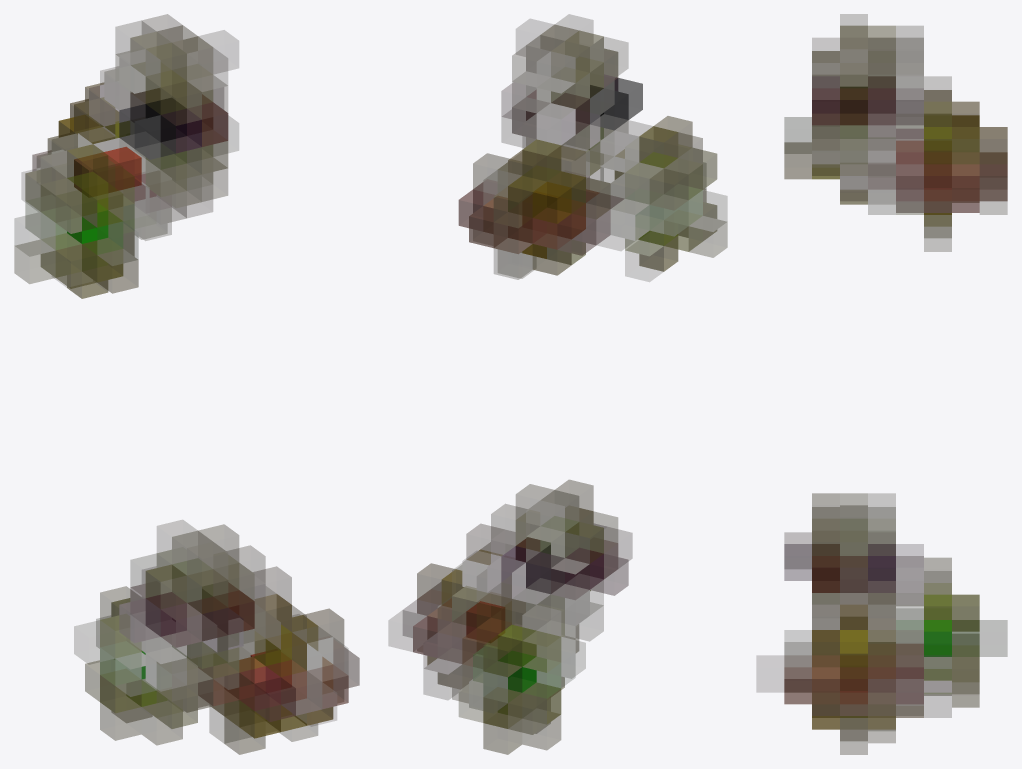
Rendered from iter_5.obj.
3 views of the same model, side by side, from view 1: azimuth 30°, elevation 25°; view 2: azimuth 150°, elevation 25°; view 3: azimuth 270°, elevation 25° (orthographic). The views are drawn at different scales.
Visible parts, largest first — view 1: iter_5; view 2: iter_5; view 3: iter_5.
Boxes of the visible parts, <box> form: iter_5: <box>14,14,359,754</box>; iter_5: <box>389,14,727,754</box>; iter_5: <box>757,14,1007,754</box>.
Size of the model in its own units: 1.2 by 2.6 by 0.9.
